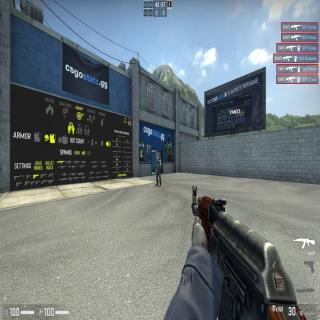CT-Body: (155, 157, 162, 187)
CT-Head: (157, 157, 159, 162)
